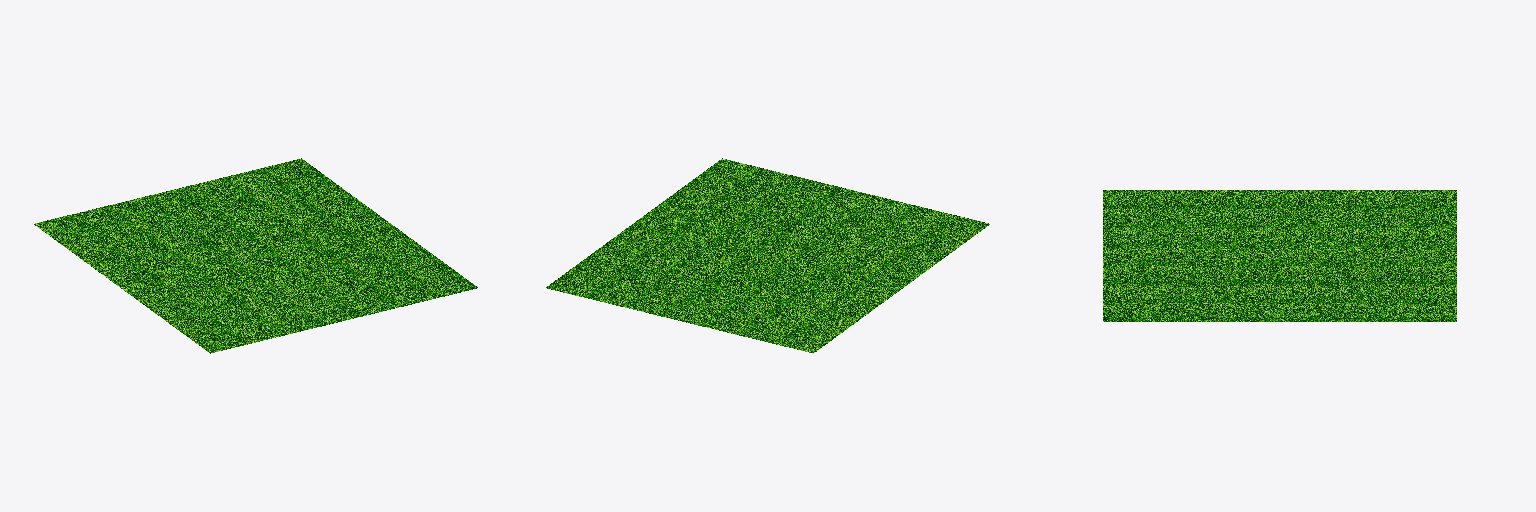
The picture shows the model from 3 angles: view 1: azimuth 30°, elevation 25°; view 2: azimuth 150°, elevation 25°; view 3: azimuth 270°, elevation 25°; orthographic projection.
Visible parts, largest first — view 1: Plane.011, Plane.025, Plane.001, Plane.002, Plane.008, Plane.005, Plane.020, Plane.017, Plane.015, Plane.036, Plane.035, Plane.032 (+28 smaller); view 2: Plane.014, Plane.028, Plane.001, Plane.004, Plane.008, Plane.007, Plane.022, Plane.019, Plane.018, Plane.039, Plane.037, Plane.034 (+28 smaller); view 3: Plane.014, Plane.012, Plane.011, Plane.010, Plane.029, Plane.028, Plane.027, Plane.025, Plane.045, Plane.042, Plane.053, Plane.050 (+28 smaller).
Part boxes in pixels (left/top/right/bottom): Plane.011: left=155, top=228, right=214, bottom=253; Plane.025: left=297, top=258, right=356, bottom=283; Plane.001: left=238, top=251, right=296, bottom=276; Plane.002: left=160, top=270, right=219, bottom=295; Plane.008: left=215, top=235, right=273, bottom=260; Plane.005: left=292, top=216, right=351, bottom=241; Plane.020: left=247, top=184, right=306, bottom=208; Plane.017: left=72, top=205, right=131, bottom=230; Plane.015: left=187, top=177, right=245, bottom=202; Plane.036: left=266, top=309, right=324, bottom=334; Plane.035: left=380, top=281, right=439, bottom=306; Plane.032: left=205, top=303, right=264, bottom=327; Plane.014: left=667, top=258, right=726, bottom=283; Plane.028: left=809, top=228, right=868, bottom=253; Plane.001: left=750, top=235, right=808, bottom=260; Plane.004: left=672, top=216, right=731, bottom=241; Plane.008: left=727, top=251, right=785, bottom=276; Plane.007: left=804, top=270, right=863, bottom=295; Plane.022: left=759, top=303, right=818, bottom=327; Plane.019: left=584, top=281, right=643, bottom=306; Plane.018: left=699, top=309, right=757, bottom=334; Plane.039: left=778, top=177, right=836, bottom=202; Plane.037: left=892, top=205, right=951, bottom=230; Plane.034: left=717, top=184, right=776, bottom=208; Plane.014: left=1324, top=265, right=1368, bottom=283; Plane.012: left=1324, top=209, right=1368, bottom=227; Plane.011: left=1324, top=228, right=1368, bottom=246; Plane.010: left=1324, top=284, right=1368, bottom=302; Plane.029: left=1191, top=284, right=1235, bottom=302; Plane.028: left=1191, top=228, right=1235, bottom=246; Plane.027: left=1191, top=209, right=1235, bottom=227; Plane.025: left=1191, top=265, right=1235, bottom=283; Plane.045: left=1324, top=303, right=1368, bottom=321; Plane.042: left=1191, top=303, right=1235, bottom=321; Plane.053: left=1324, top=190, right=1368, bottom=208; Plane.050: left=1191, top=190, right=1235, bottom=208.
Bounding box in the file's own units: 14 × 0 × 16.
Materials: 56 (1 with a texture image).